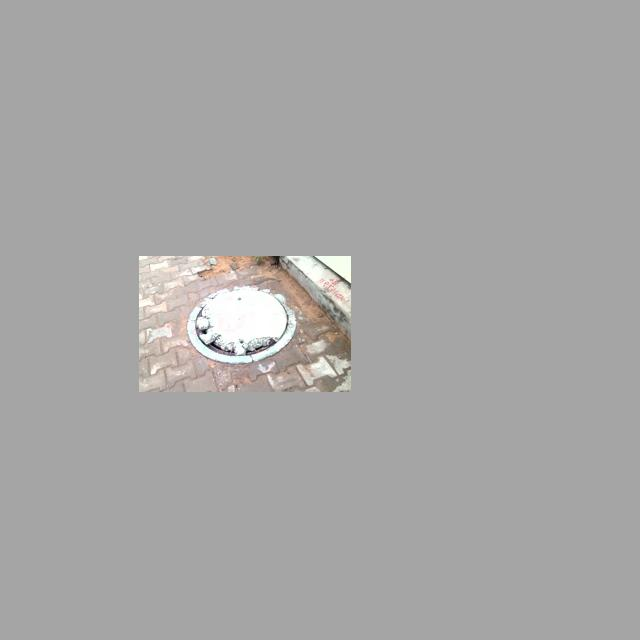broke: (187, 284, 298, 362)
